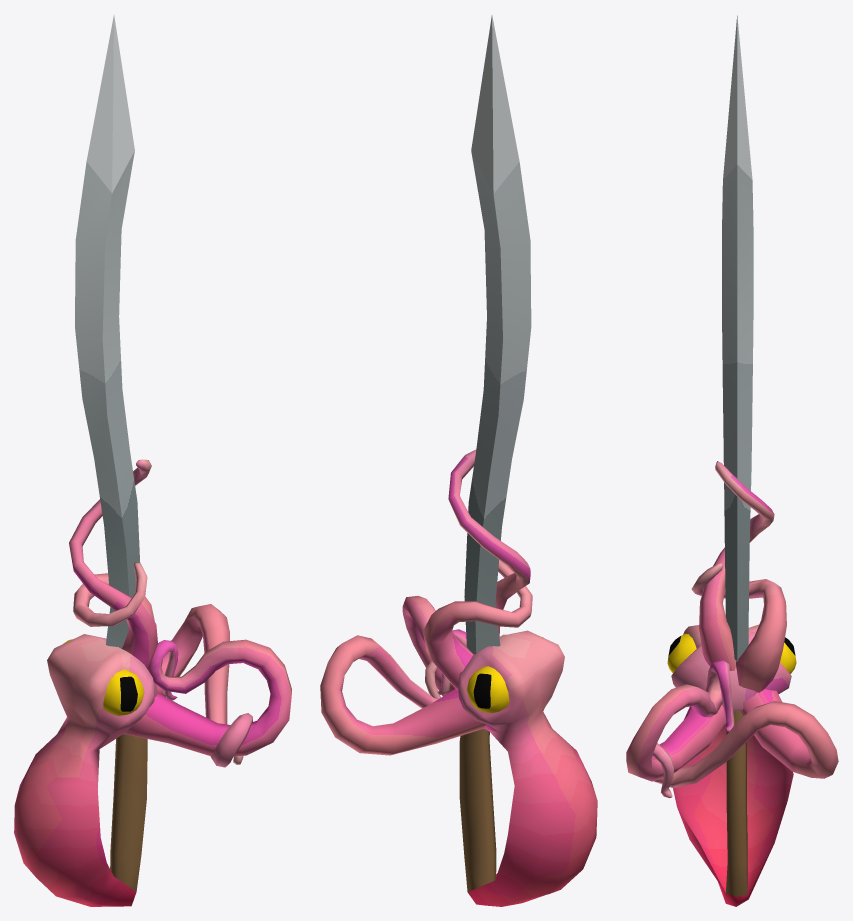
File: 7-Cephalopod.glb
The picture shows the model from 3 angles, left to right: view 1: azimuth 30°, elevation 25°; view 2: azimuth 150°, elevation 25°; view 3: azimuth 270°, elevation 25°; orthographic projection.
Parts seen in each view (by area): view 1: s; view 2: s; view 3: s.
Boxes of the visible parts, left/top/right/bottom form: s: left=14, top=14, right=291, bottom=906; s: left=320, top=15, right=597, bottom=906; s: left=626, top=15, right=838, bottom=906.
Size of the model in its own units: 0.3807 by 1.41 by 0.3062.
Materials: 1 (1 with a texture image).
